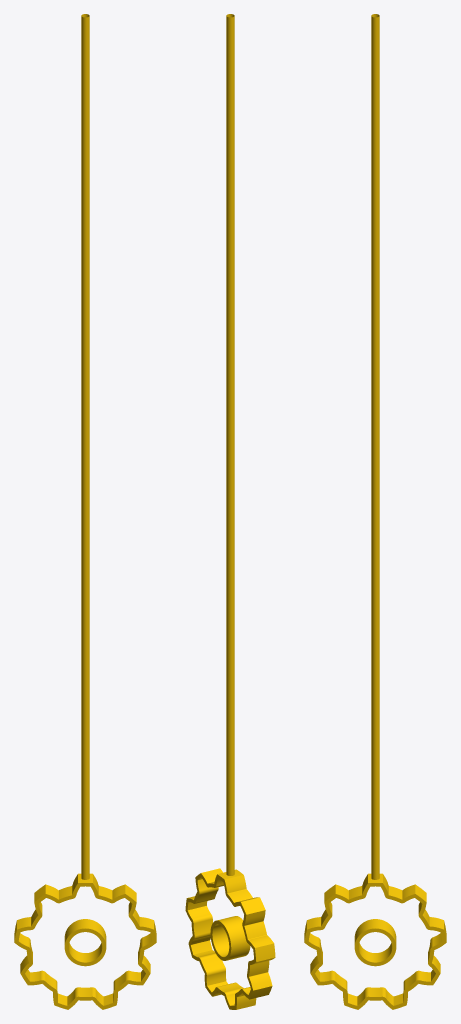
Rendered from cutter2_gear.fbx.
The picture shows the model from 3 angles, left to right: view 1: azimuth 90°, elevation 25°; view 2: azimuth 210°, elevation 25°; view 3: azimuth 270°, elevation 25°; orthographic projection.
Parts seen in each view (by area): view 1: Cutter2_Gear; view 2: Cutter2_Gear; view 3: Cutter2_Gear.
Part boxes in pixels (x1=…): Cutter2_Gear: x1=14, y1=14, x2=156, y2=1009; Cutter2_Gear: x1=185, y1=14, x2=275, y2=1009; Cutter2_Gear: x1=304, y1=14, x2=446, y2=1009.
Size of the model in its own units: 16.87 by 823 by 107.
